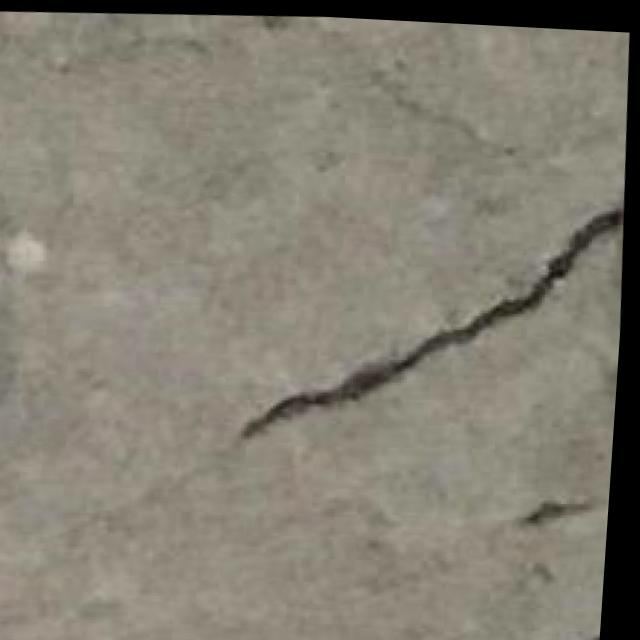Crack: (241, 201, 603, 455)
